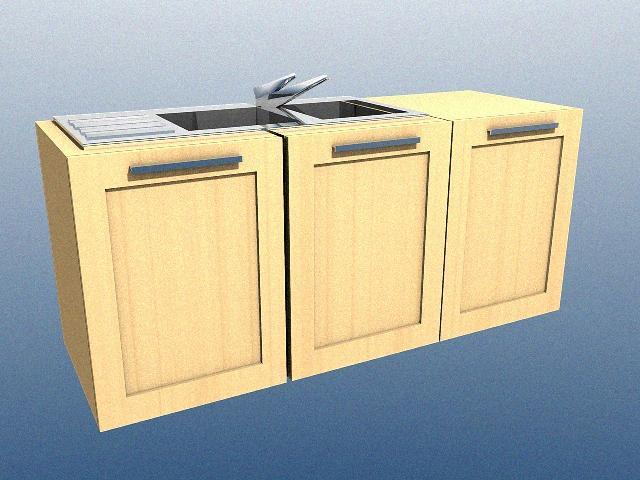cabinet_door: (84, 148, 284, 408), (290, 130, 446, 362), (446, 115, 571, 326)
handle: (124, 151, 245, 183), (324, 131, 424, 159), (482, 116, 562, 143)
